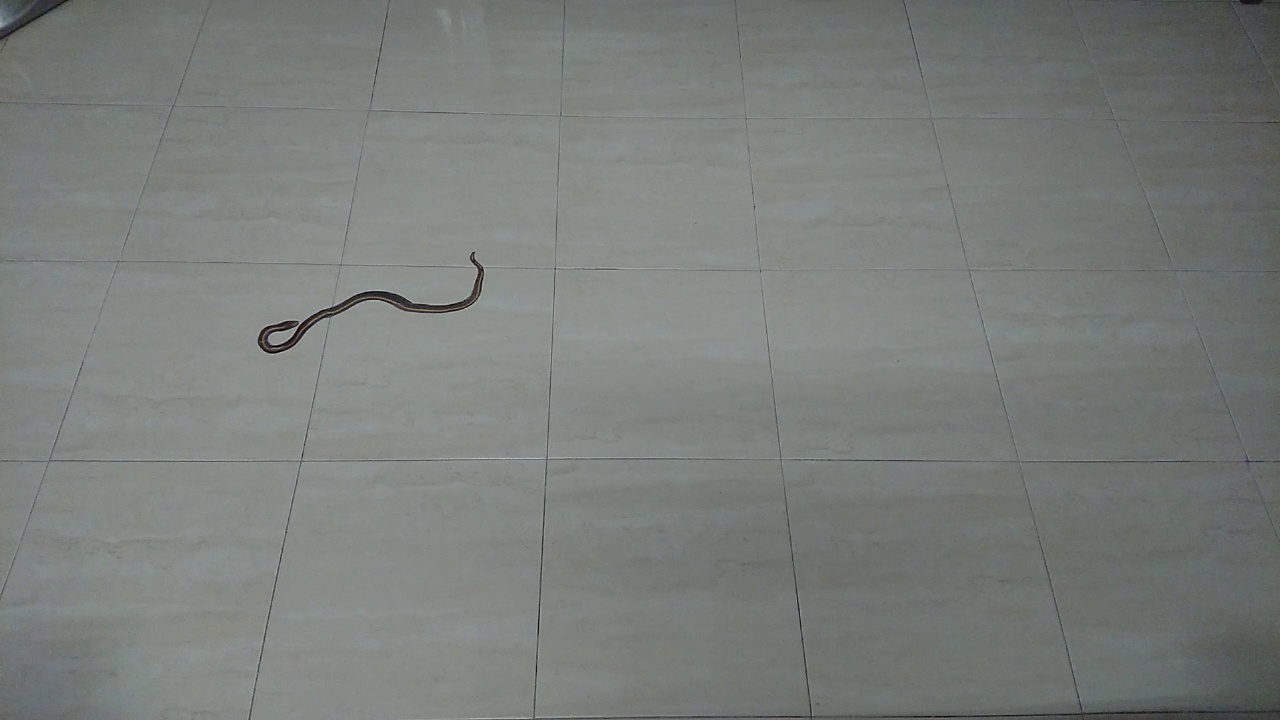snake: (244, 235, 508, 362)
